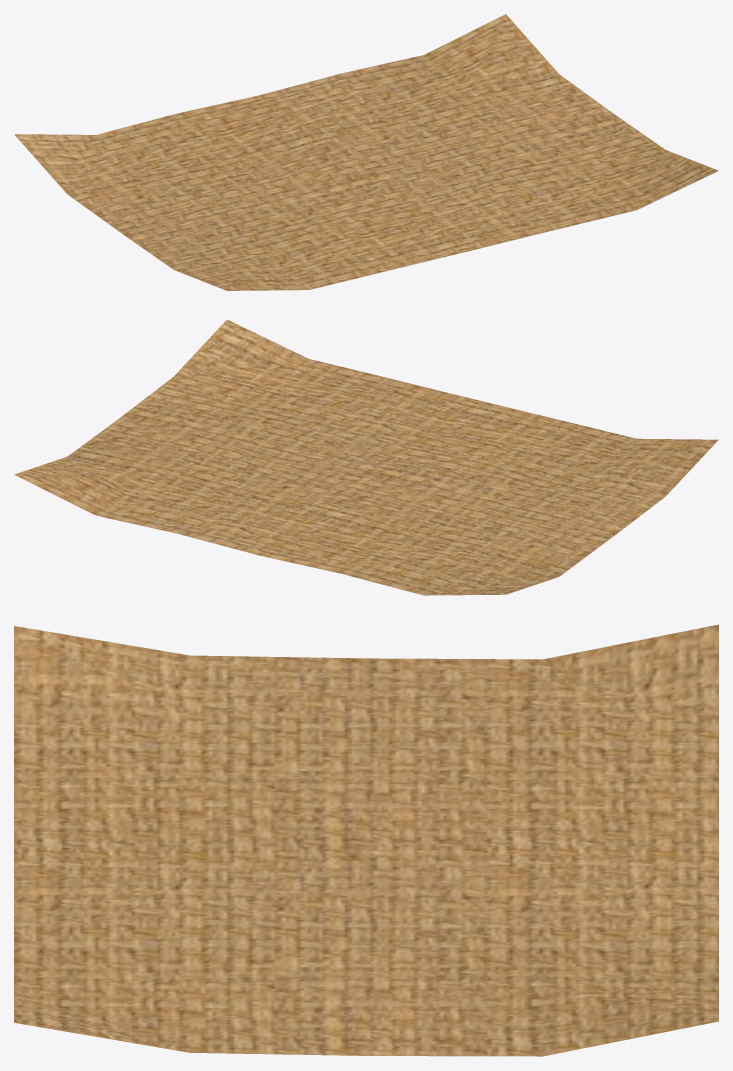
File: prop_pati_lod2.glb
3 renders of one model, top to bottom at view 1: azimuth 30°, elevation 25°; view 2: azimuth 150°, elevation 25°; view 3: azimuth 270°, elevation 25°, orthographic. The views are drawn at different scales.
Parts seen in each view (by area): view 1: prop_pati; view 2: prop_pati; view 3: prop_pati.
Part boxes in pixels (left/top/right/bottom): prop_pati: left=14, top=14, right=718, bottom=290; prop_pati: left=14, top=319, right=718, bottom=595; prop_pati: left=14, top=624, right=718, bottom=1056.
Bounding box in the file's own units: 1.2 × 0.05 × 0.9.
Materials: 1 (1 with a texture image).
